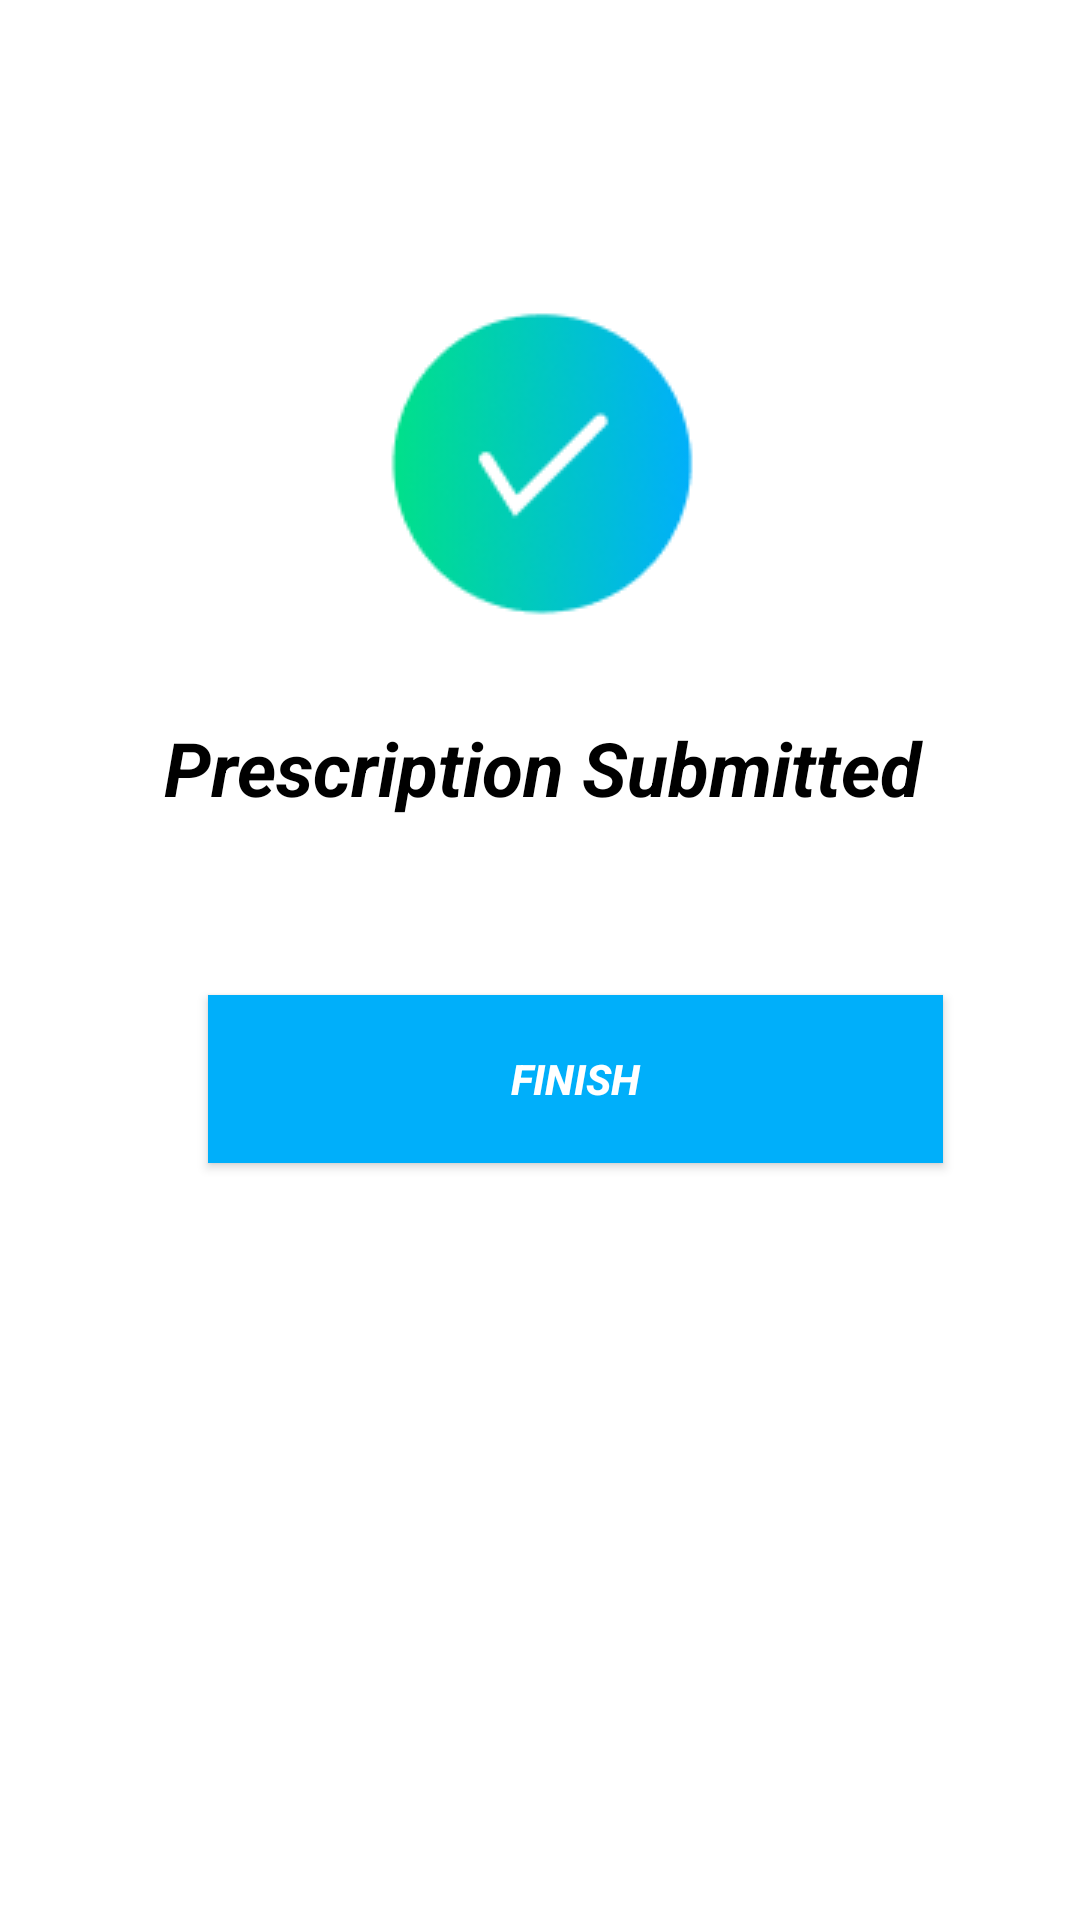

Screen size 1080px×1920px. Icon name, then its center in pixels as (x=x, y=y):
ssuccess: (x=542, y=464)
